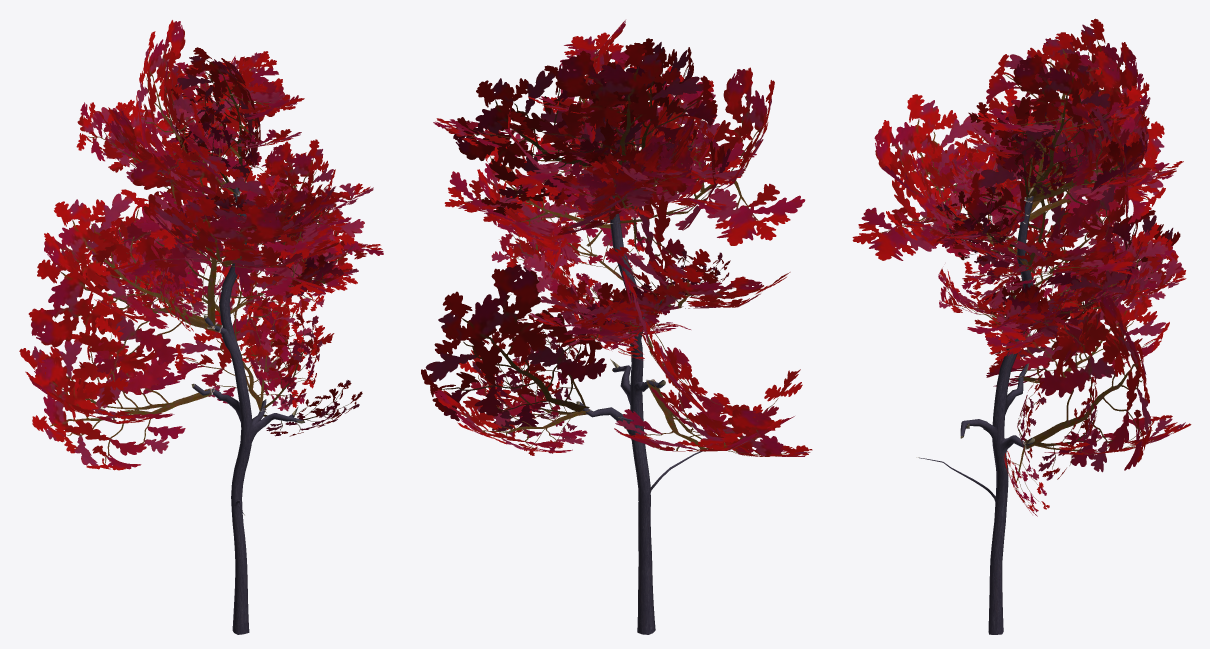
The picture shows the model from 3 angles, left to right: view 1: azimuth 30°, elevation 25°; view 2: azimuth 150°, elevation 25°; view 3: azimuth 270°, elevation 25°; orthographic projection. The views are drawn at different scales.
Visible parts, largest first — view 1: SM_BM_Oak_Tree_Sapling_02_LOD0; view 2: SM_BM_Oak_Tree_Sapling_02_LOD0; view 3: SM_BM_Oak_Tree_Sapling_02_LOD0.
Boxes of the visible parts, x1=… form: SM_BM_Oak_Tree_Sapling_02_LOD0: x1=19, y1=20, x2=383, y2=634; SM_BM_Oak_Tree_Sapling_02_LOD0: x1=421, y1=20, x2=812, y2=634; SM_BM_Oak_Tree_Sapling_02_LOD0: x1=852, y1=18, x2=1191, y2=634.
Bounding box in the file's own units: 1.53 × 2.55 × 1.35.
2 materials, 2 textured.
